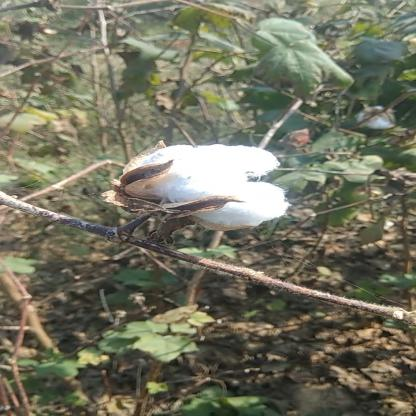cotton_ready: (89, 124, 296, 278)
